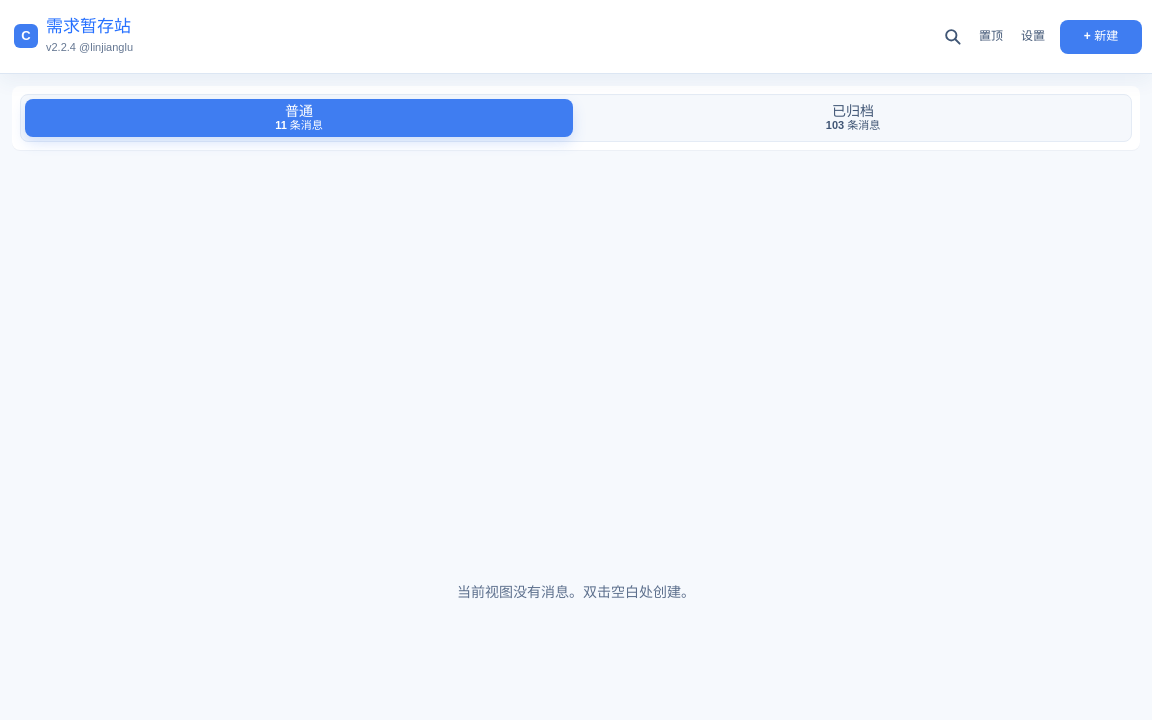
Test: media create form › requires message content before saving
Expected: the text "11 条消息" is shown, [275,120,323,132]
Expected: the text "103 条消息" is shown, [826,120,880,132]
Step 1. Click the button "+ 新建" → coordinates (1101, 36), box [1060,20,1142,54]
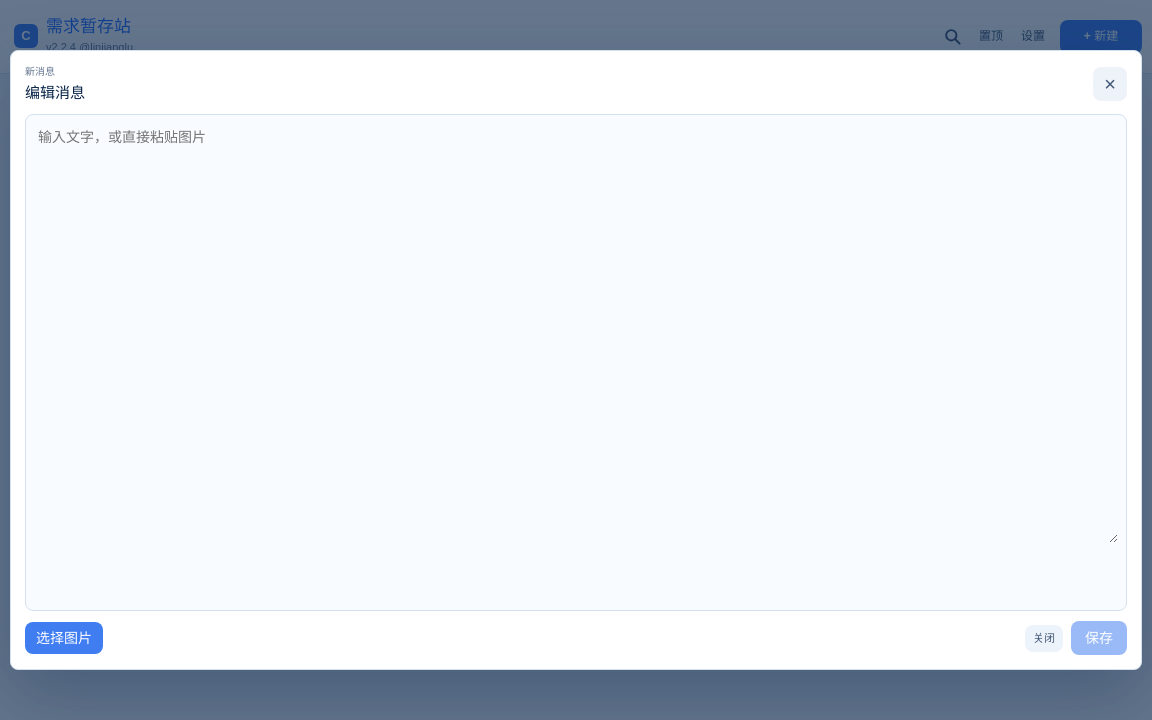
Now the button "保存" is disabled, box [1071,621,1127,655]
Step 2. Type "新文字" into the text box named "消息内容" → coordinates (576, 333), box [34,123,1118,543]
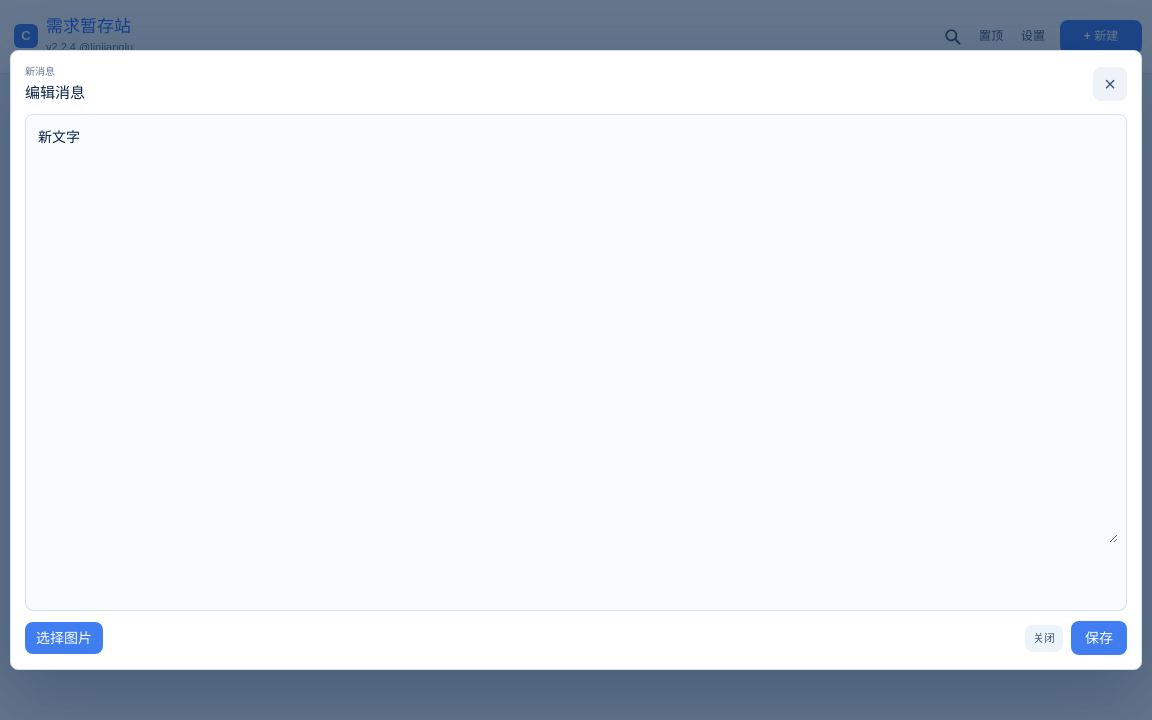
Now the button "保存" is enabled, box [1071,621,1127,655]
